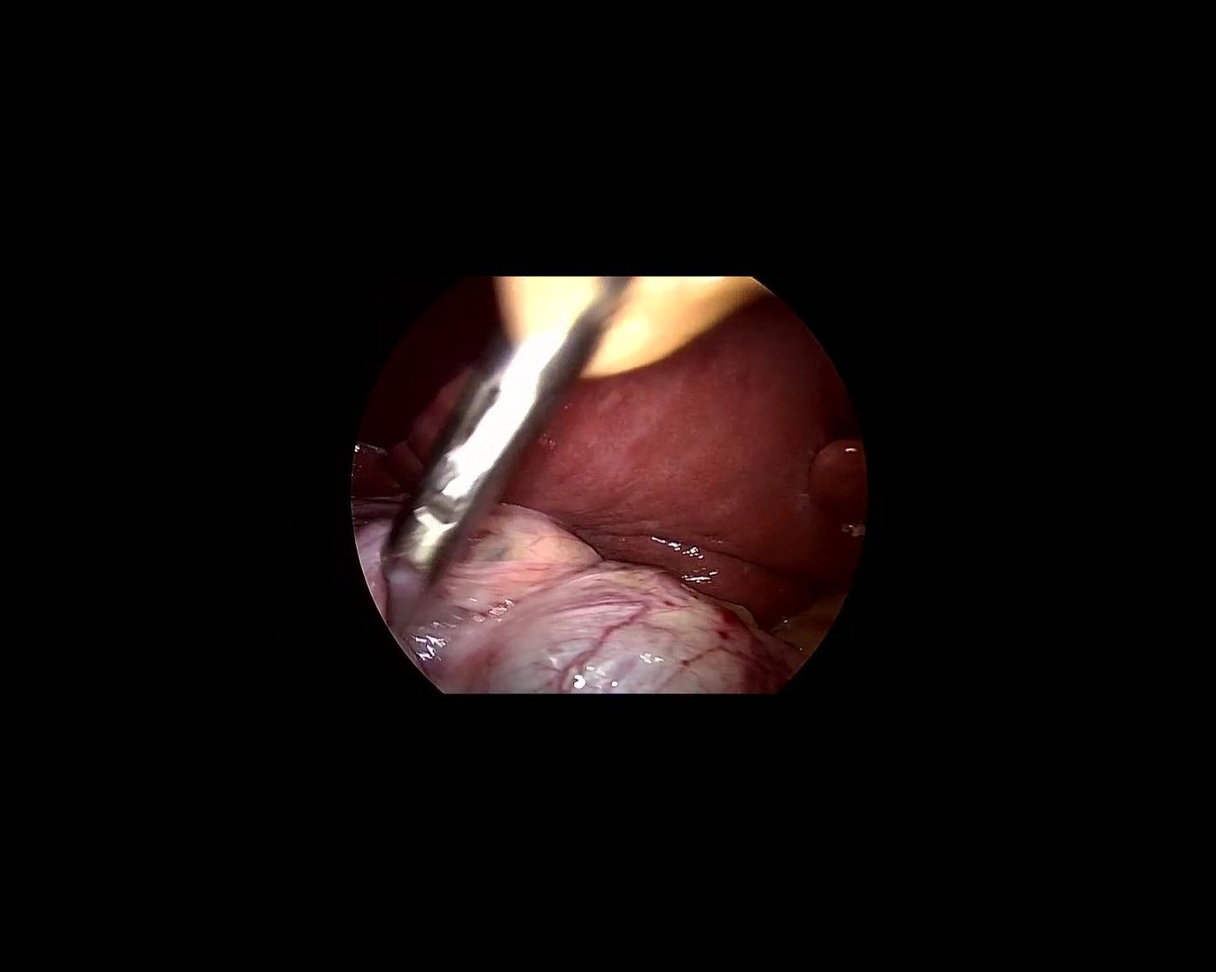Forceps: (329, 239, 633, 646)
Gallbladder: (349, 501, 786, 700)
Liver: (500, 230, 941, 653)
